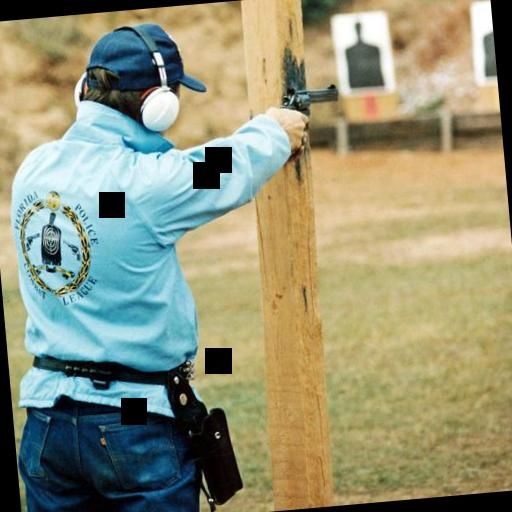Handgun: (274, 78, 343, 127)
